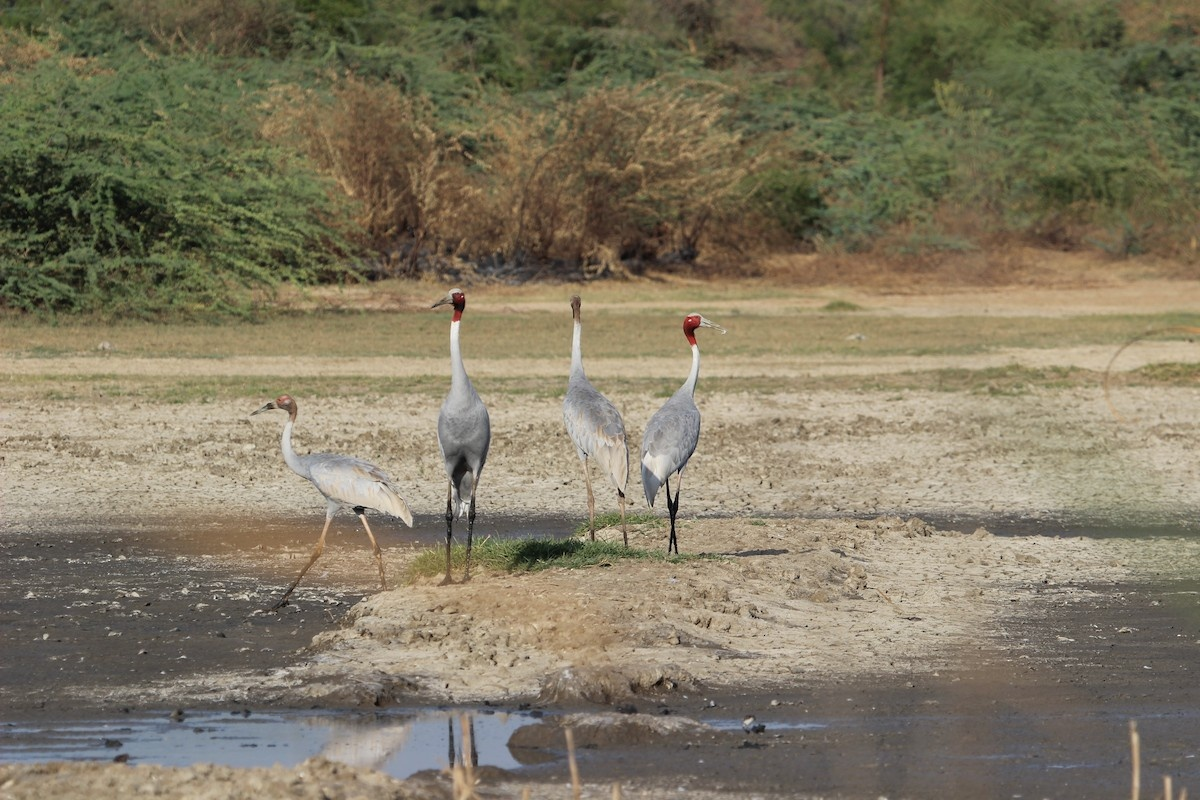crane: (245, 388, 424, 612), (632, 302, 742, 559), (558, 286, 655, 551), (424, 260, 494, 574)
